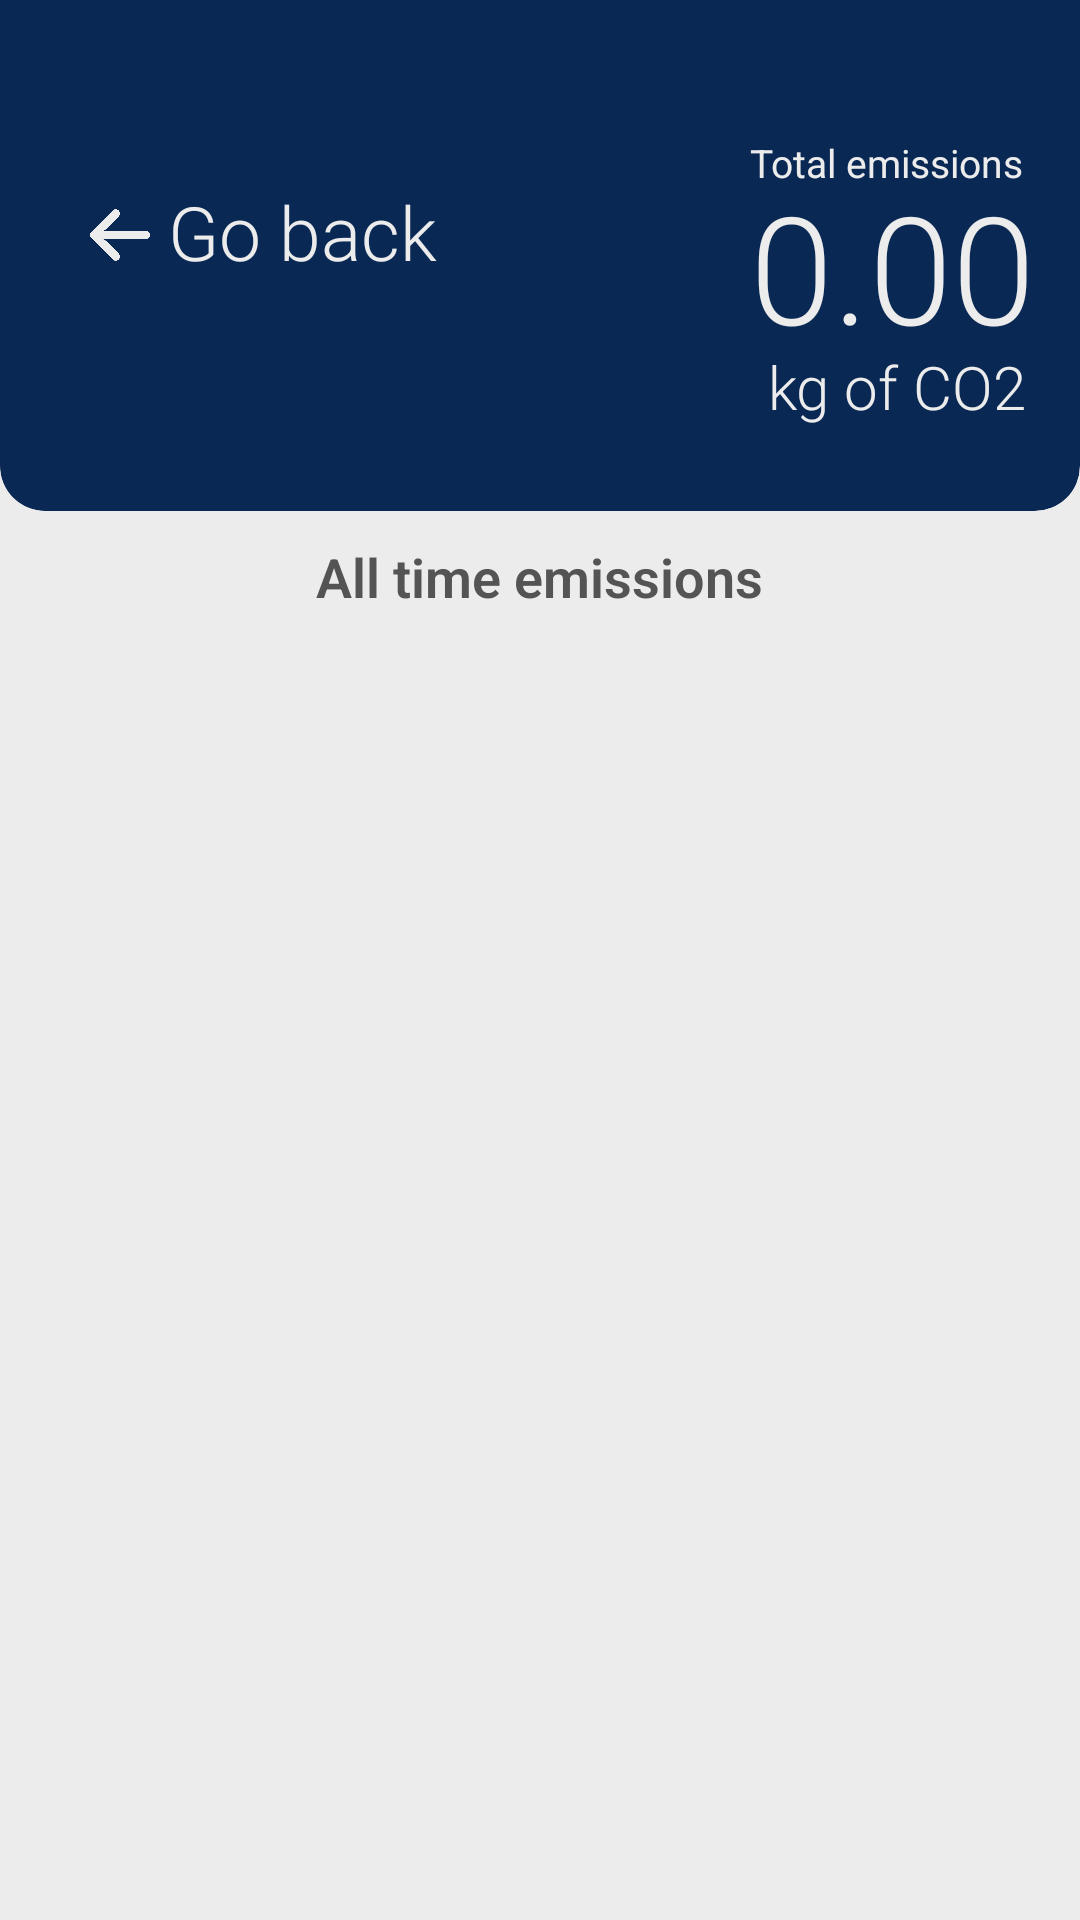

Screen size 1080px x 1920px. Icon name, then its center in pixels as (x,y):
leftarrowicon: (120,235)
